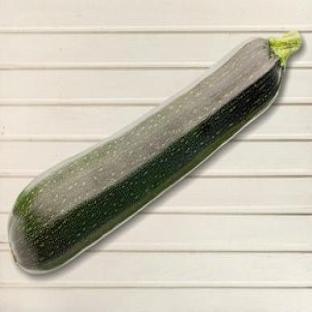Zucchini: (9, 33, 301, 272)
